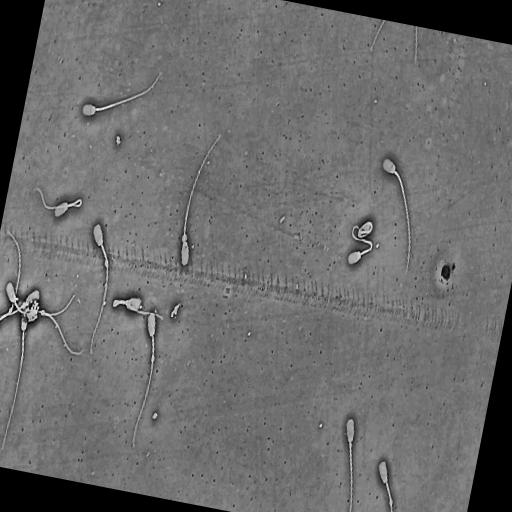coiled-tail: (358, 222, 373, 237)
dirt-particles: (25, 299, 41, 327), (440, 260, 457, 285), (170, 301, 181, 319), (115, 133, 122, 147), (151, 411, 159, 421)
distal-droplet: (104, 259, 108, 268), (151, 354, 155, 363), (389, 498, 393, 506), (9, 308, 13, 314)
folded-tail: (113, 300, 163, 320), (37, 188, 82, 209), (353, 226, 372, 255), (76, 202, 81, 206), (68, 204, 76, 206)
normal: (181, 137, 223, 268), (380, 156, 412, 281), (83, 68, 163, 115), (2, 314, 27, 449), (132, 311, 156, 449), (90, 223, 109, 355), (0, 232, 22, 321), (34, 188, 82, 219), (111, 297, 164, 325), (346, 224, 374, 268), (346, 418, 355, 512), (378, 460, 394, 512), (357, 219, 374, 240)
proximal-droplet: (182, 234, 187, 243), (349, 442, 352, 449)
